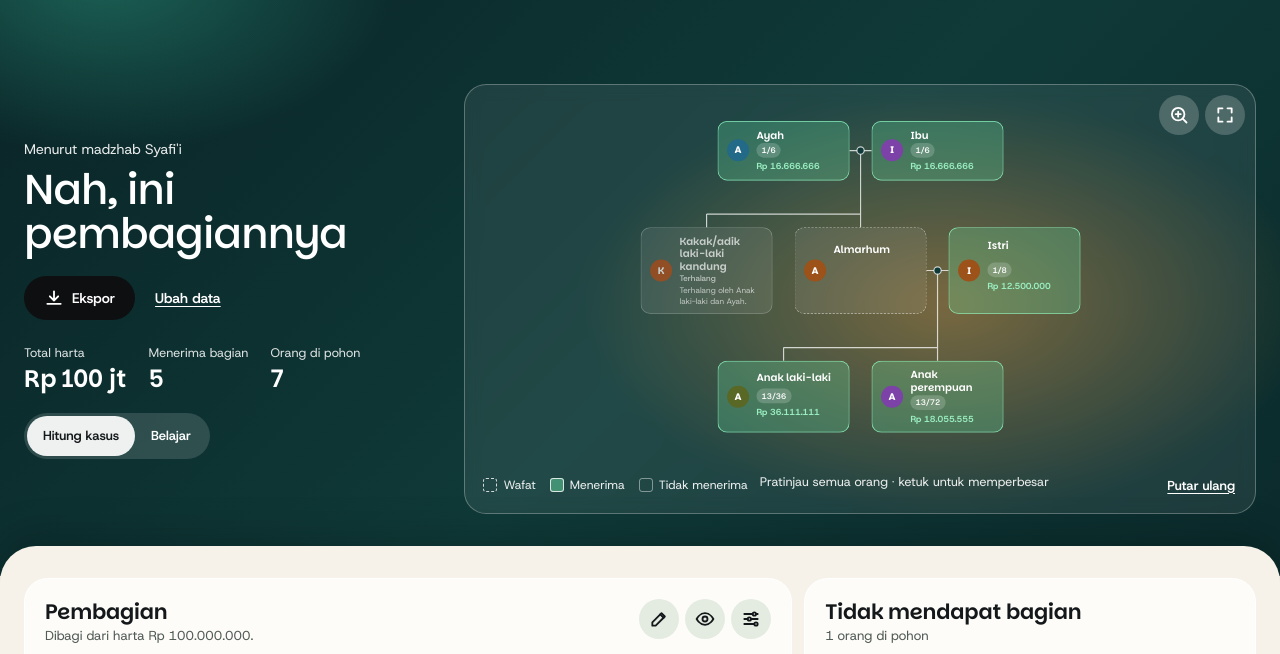
Test case: layar hasil › ikon mata hanya menyembunyikan nominal
Click the button named "Sembunyikan nominal". click: (705, 619)
box: [685,599,725,639]
(page scrolled)
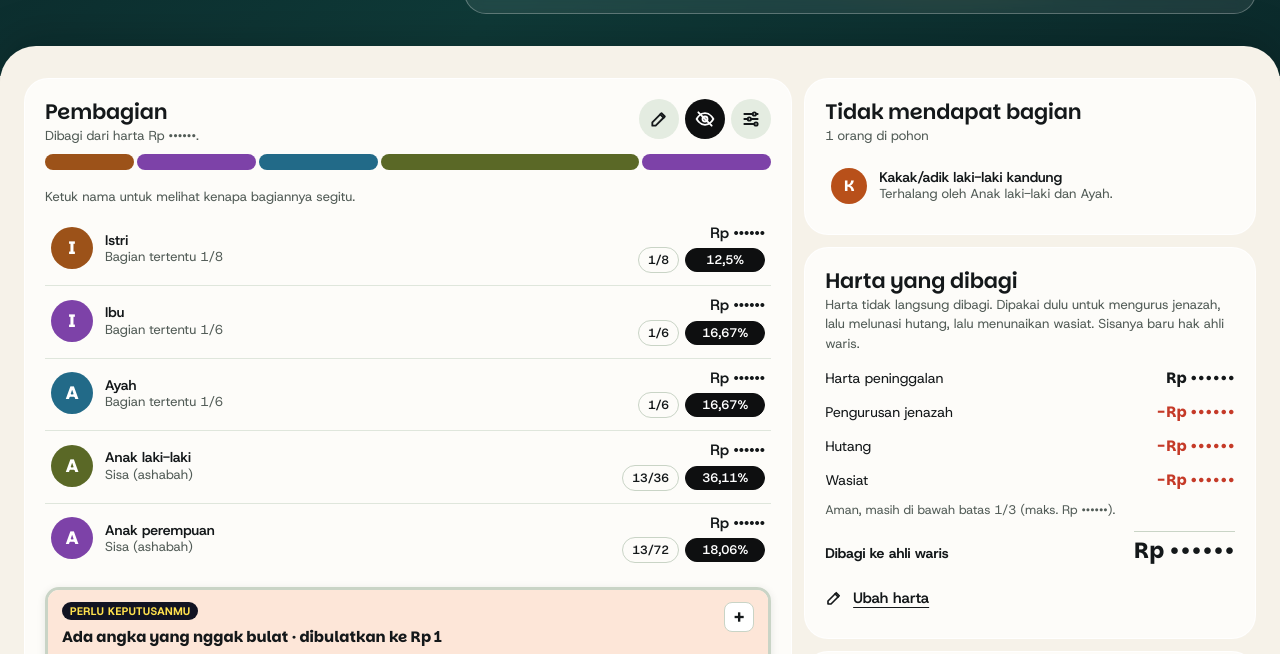
Expected: the 1st text "1/6" is shown, [638,320,679,346]
Now the button "Rp 16.666.666" is gone
